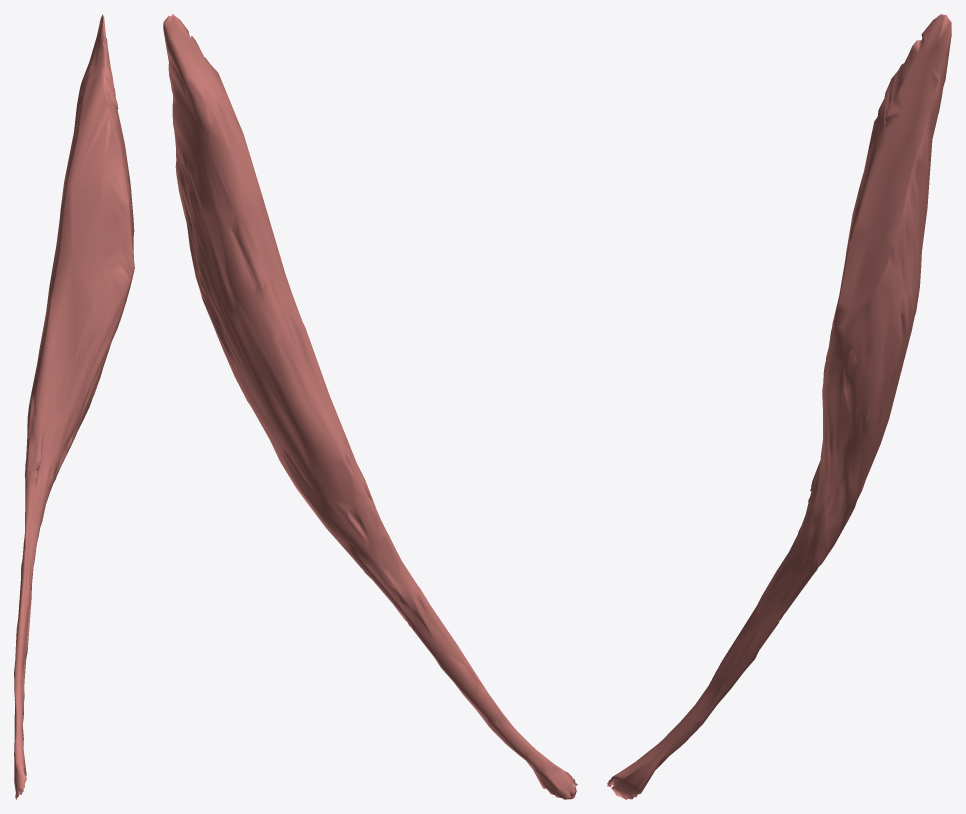
The picture shows the model from 3 angles, left to right: view 1: azimuth 30°, elevation 25°; view 2: azimuth 150°, elevation 25°; view 3: azimuth 270°, elevation 25°; orthographic projection. The views are drawn at different scales.
Visible parts, largest first — view 1: ZA_f51fba62b25177d6; view 2: ZA_f51fba62b25177d6; view 3: ZA_f51fba62b25177d6.
Part boxes in pixels (x1,y1,x2,y2): ZA_f51fba62b25177d6: (14, 14, 134, 799); ZA_f51fba62b25177d6: (163, 14, 577, 799); ZA_f51fba62b25177d6: (607, 14, 951, 799).
Size of the model in its own units: 0.064 by 0.1878 by 0.0638.
